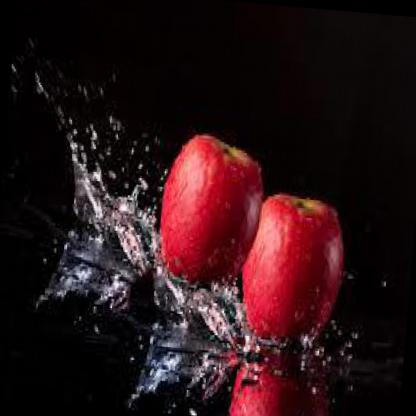apple: (158, 129, 271, 290), (239, 192, 352, 348)
